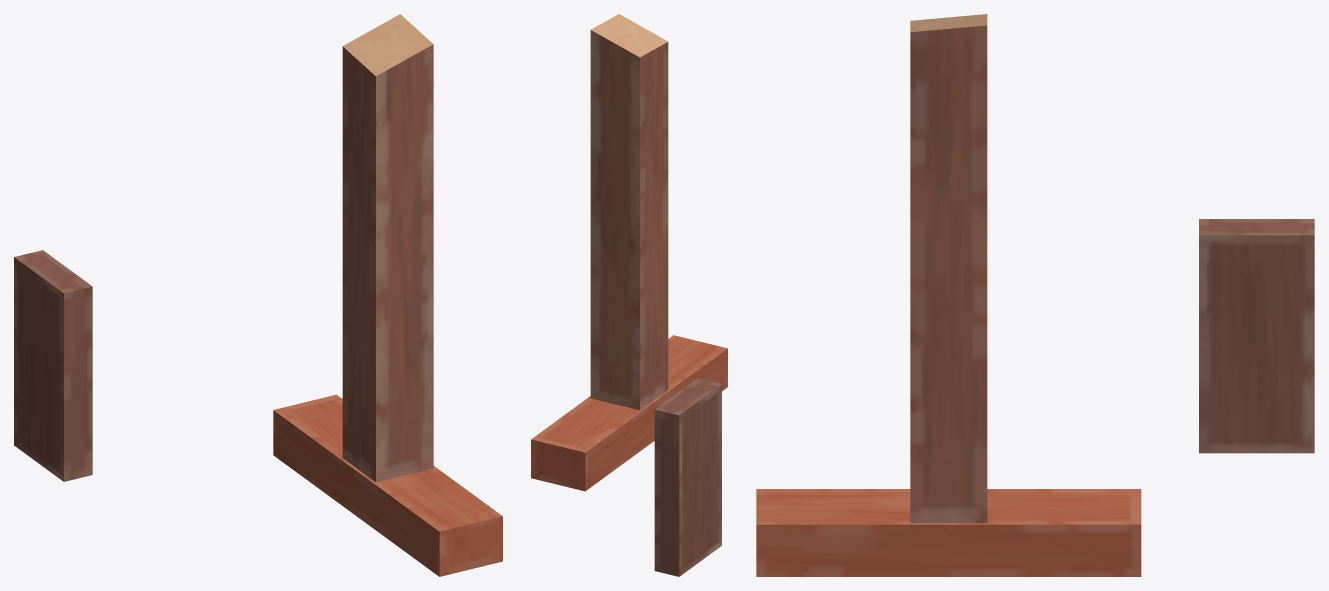
File: loom_s05.fbx
3 renders of one model, left to right at view 1: azimuth 30°, elevation 25°; view 2: azimuth 150°, elevation 25°; view 3: azimuth 270°, elevation 25°, orthographic. The views are drawn at different scales.
Parts seen in each view (by area): view 1: loom_s05; view 2: loom_s05; view 3: loom_s05.
Boxes of the visible parts, x1,y1,x2,y2 form: loom_s05: (14, 14, 502, 576); loom_s05: (531, 14, 727, 576); loom_s05: (756, 14, 1314, 576).
Size of the model in its own units: 1.72 by 3.15 by 2.9.
